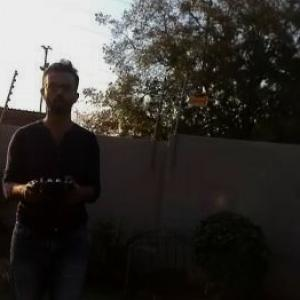follow: (0, 50, 103, 299)
